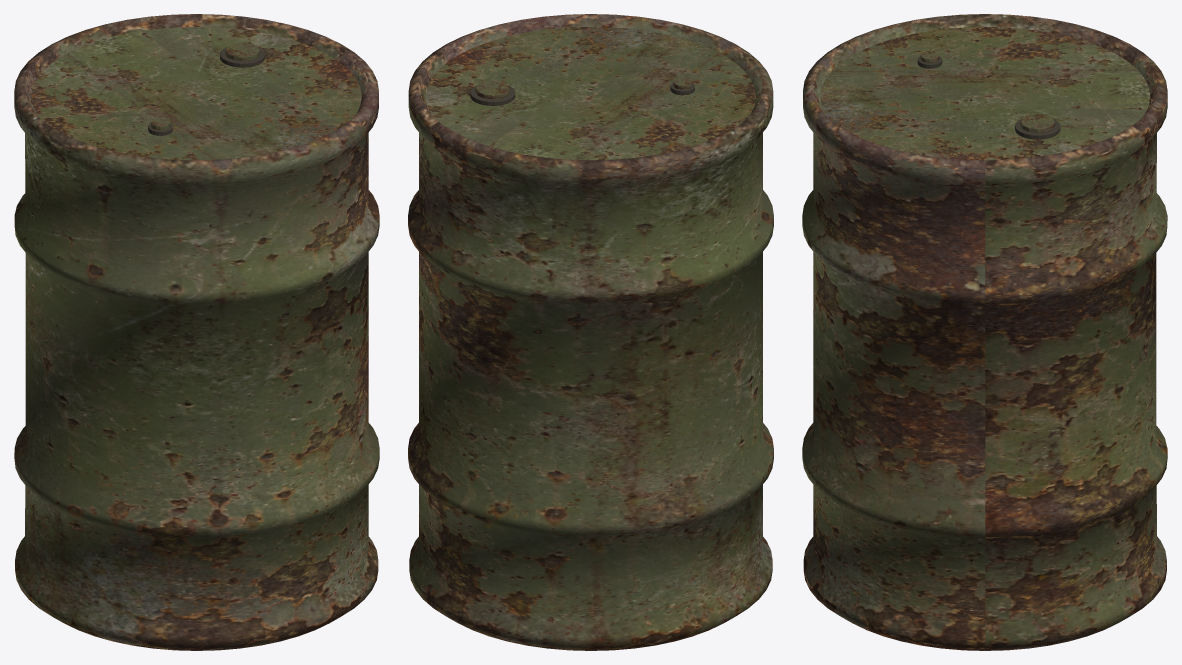
Rendered from RustedSteelDrum.fbx.
3 renders of one model, left to right at view 1: azimuth 30°, elevation 25°; view 2: azimuth 150°, elevation 25°; view 3: azimuth 270°, elevation 25°, orthographic.
Parts seen in each view (by area): view 1: RustedSteelDrum; view 2: RustedSteelDrum; view 3: RustedSteelDrum.
Boxes of the visible parts, <box> form: RustedSteelDrum: <box>14,14,379,650</box>; RustedSteelDrum: <box>408,14,773,650</box>; RustedSteelDrum: <box>802,14,1167,650</box>.
Size of the model in its own units: 59.4 by 88.45 by 59.3.
